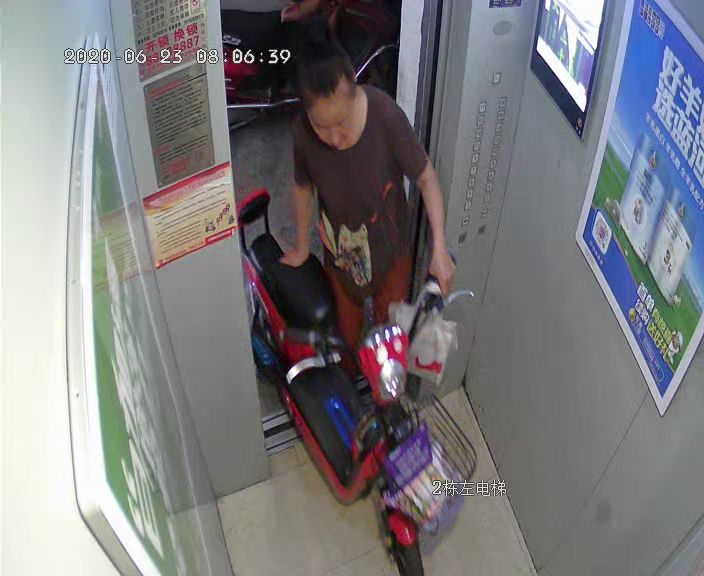Electric-bicycle: (233, 193, 473, 575)
